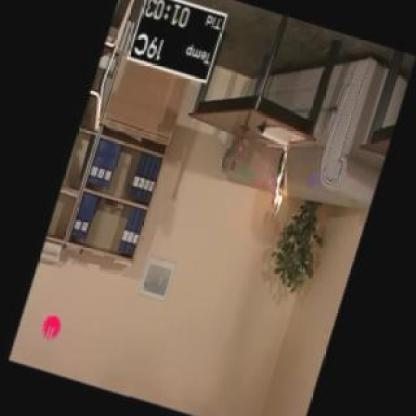Fire: (271, 156, 295, 219)
